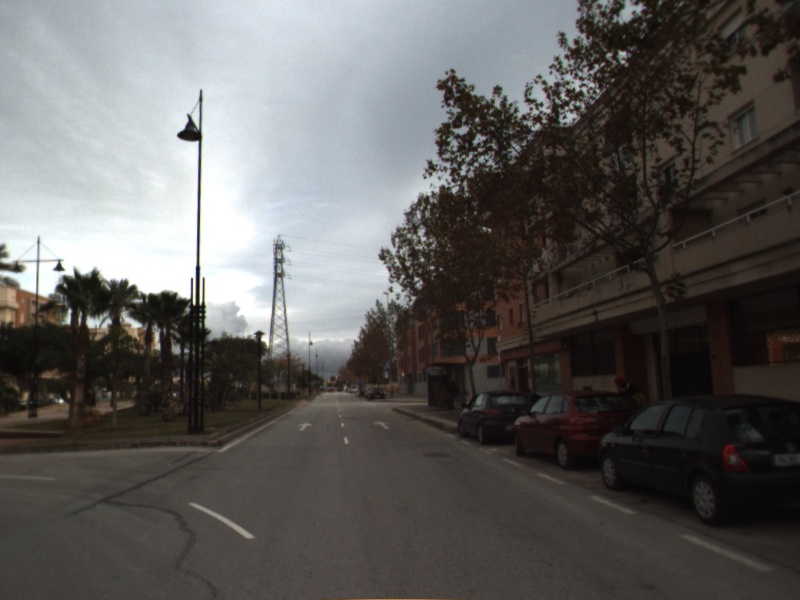STRAIGHT: (372, 419, 392, 431), (296, 420, 314, 433)
